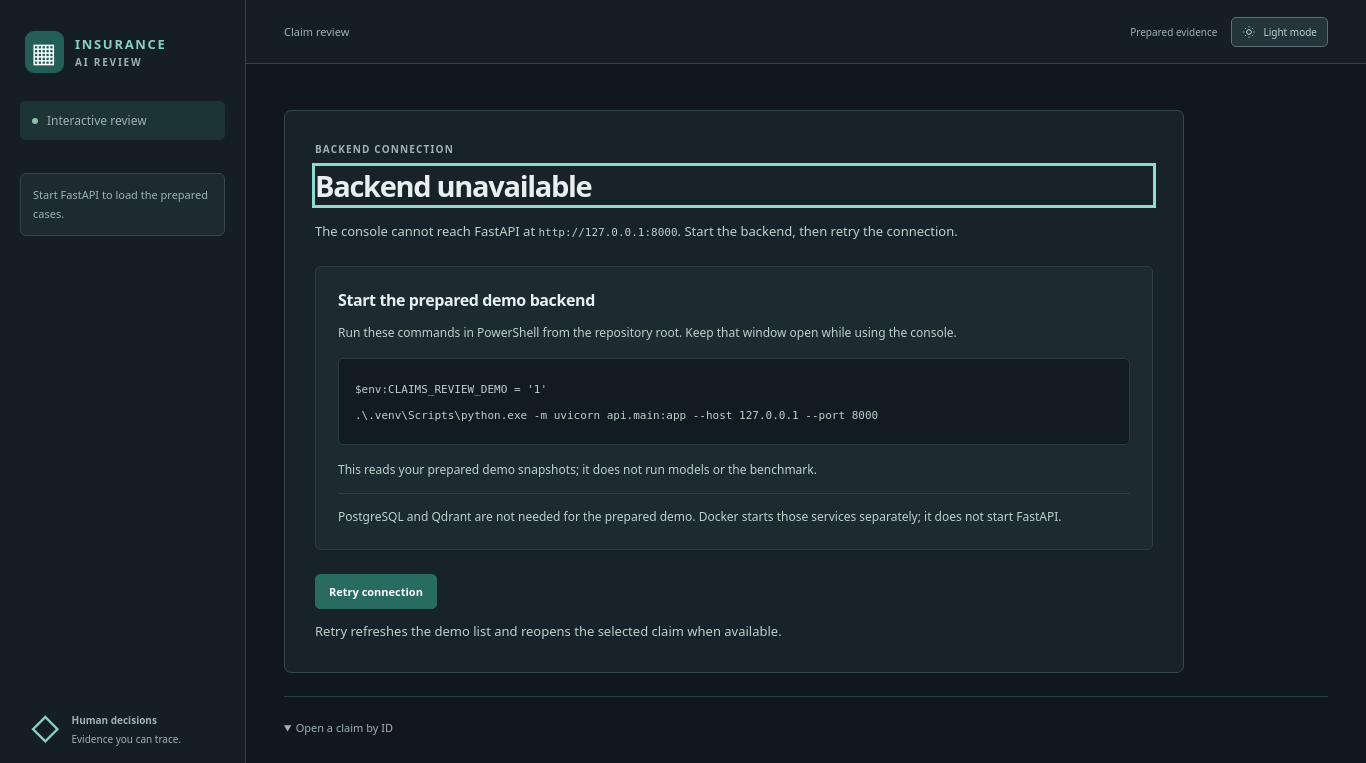
Test: Review API integration › opens the visual default automatically after the backend connection recovers
Check: the heading "Backend unavailable" is shown, box [315,166,591,204]
Step 1. Click the button "Retry connection" → (376,591), box [315,574,437,608]
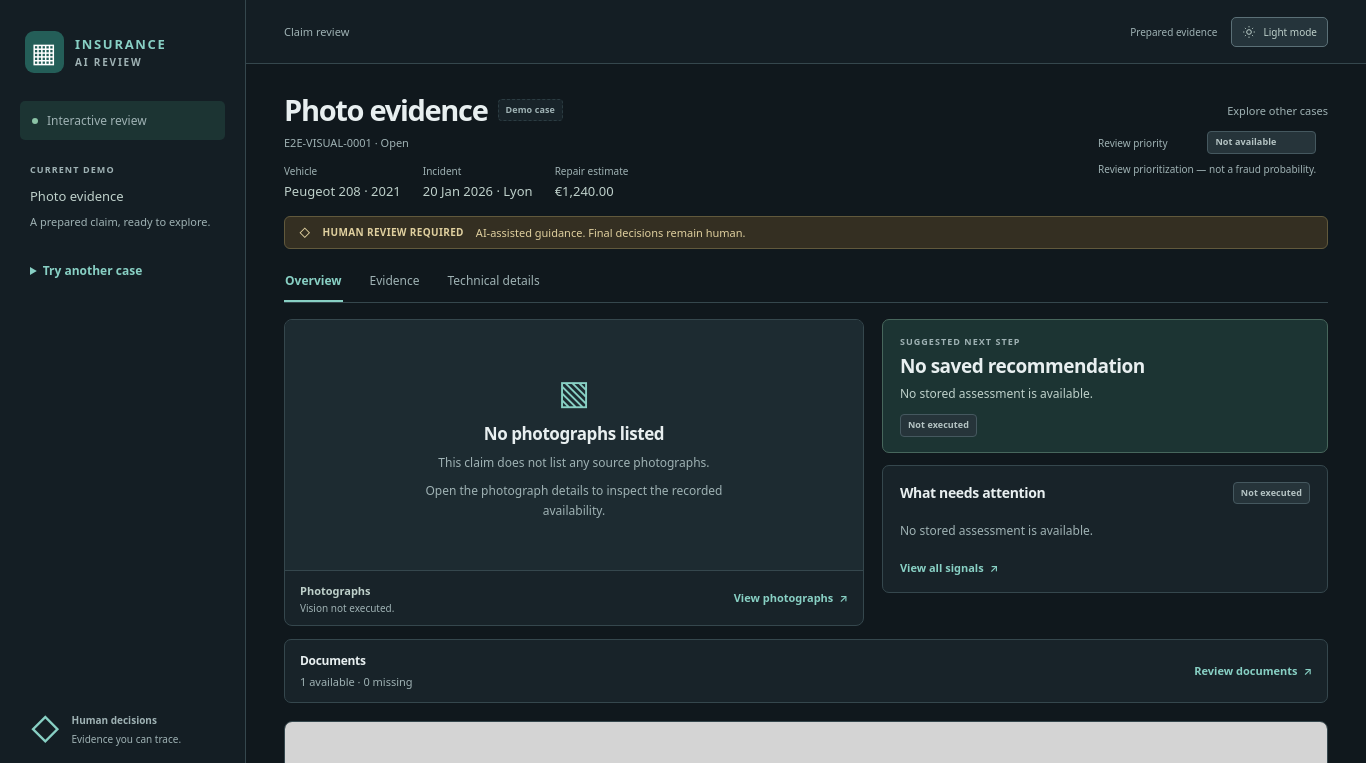
Check: the heading "Photo evidence" is shown, box [284,92,488,128]
